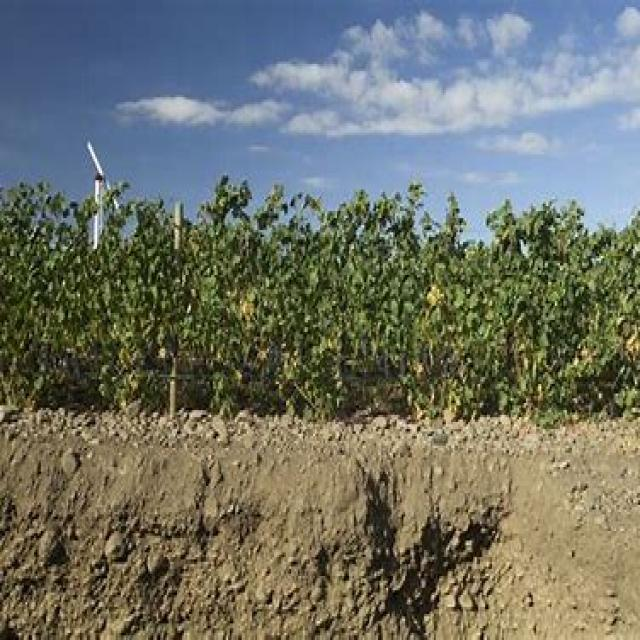Alluvial Soil: (8, 421, 381, 627)
